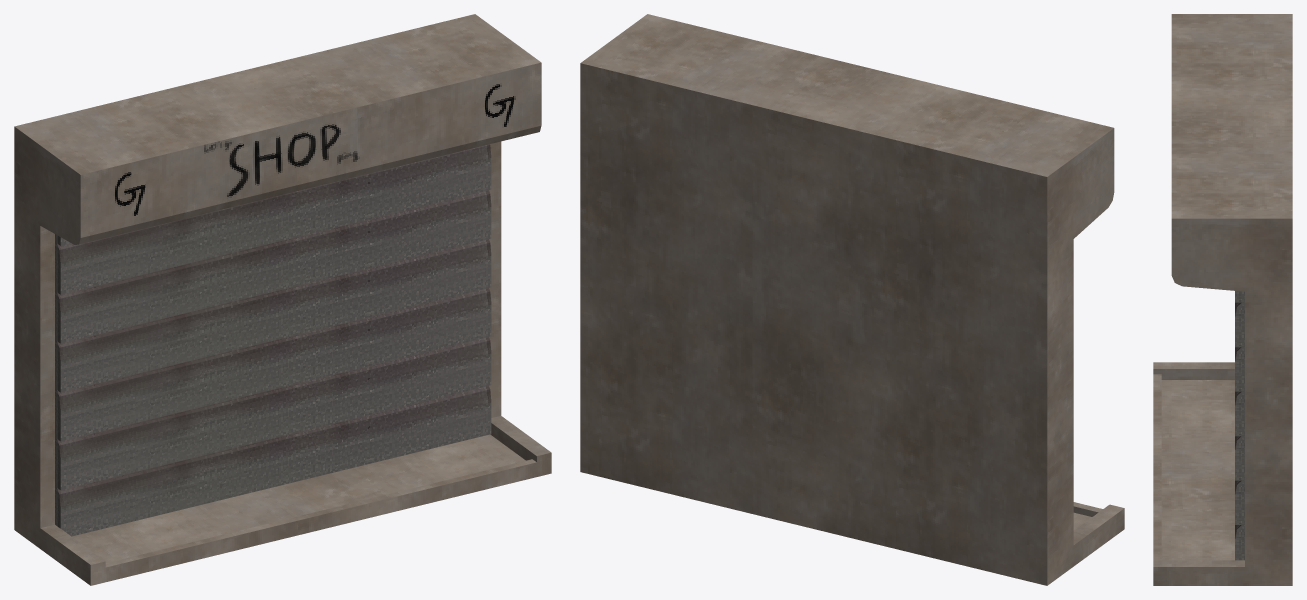
The model's file is shop.glb.
3 renders of one model, left to right at view 1: azimuth 30°, elevation 25°; view 2: azimuth 150°, elevation 25°; view 3: azimuth 270°, elevation 25°, orthographic. The views are drawn at different scales.
Parts seen in each view (by area): view 1: Shop; view 2: Shop; view 3: Shop.
Boxes of the visible parts, left/top/right/bottom form: Shop: left=14, top=14, right=551, bottom=585; Shop: left=580, top=14, right=1124, bottom=585; Shop: left=1153, top=14, right=1292, bottom=585.
Bounding box in the file's own units: 1.56 × 1.31 × 0.4482.
2 materials, 2 textured.
